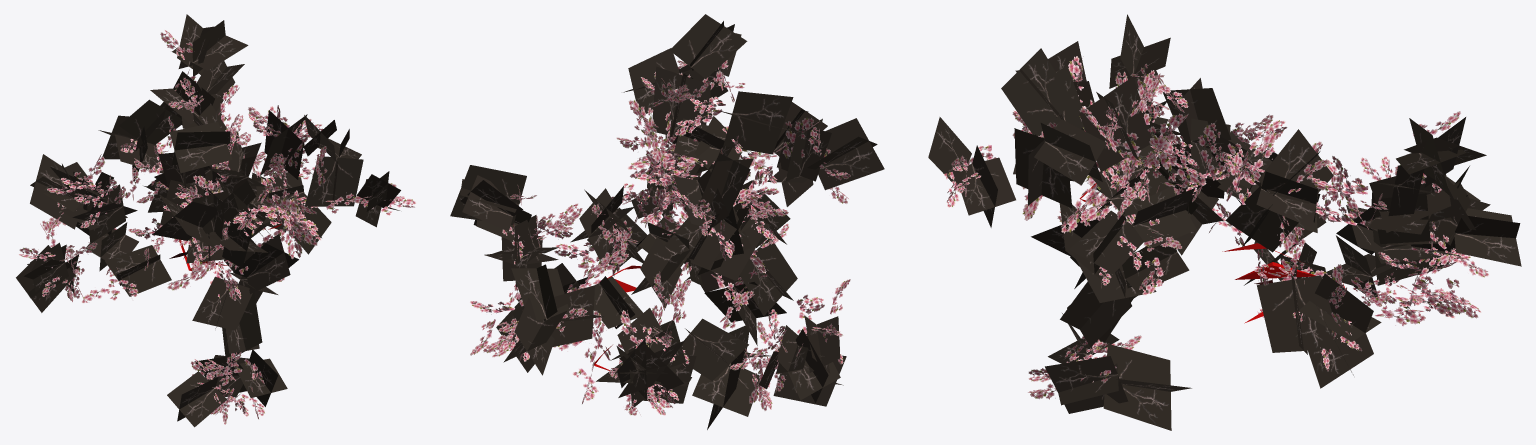
File: sakura1 lod2.FBX
3 views of the same model, side by side, from view 1: azimuth 30°, elevation 25°; view 2: azimuth 150°, elevation 25°; view 3: azimuth 270°, elevation 25° (orthographic). The views are drawn at different scales.
Parts seen in each view (by area): view 1: sakura1_LOD2; view 2: sakura1_LOD2; view 3: sakura1_LOD2.
Boxes of the visible parts, bbox=[...] form: sakura1_LOD2: bbox=[16, 14, 416, 427]; sakura1_LOD2: bbox=[450, 14, 884, 429]; sakura1_LOD2: bbox=[928, 14, 1521, 430].
Bounding box in the file's own units: 90581 × 93914 × 127687.
